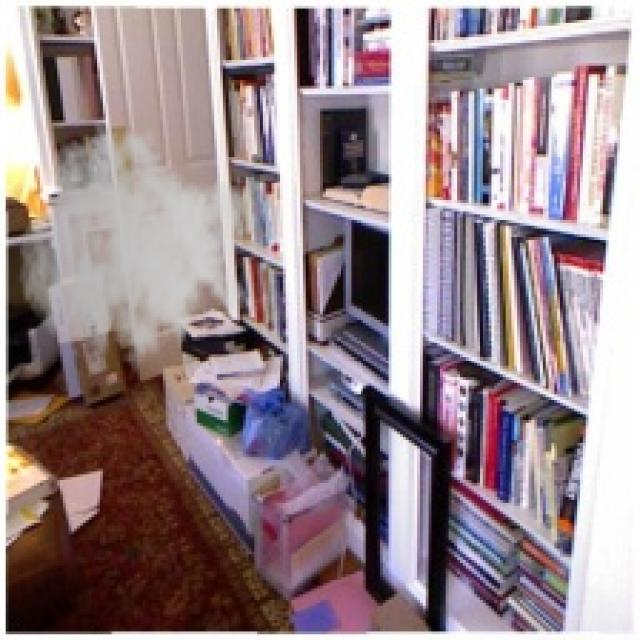smoke: (17, 117, 260, 389)
